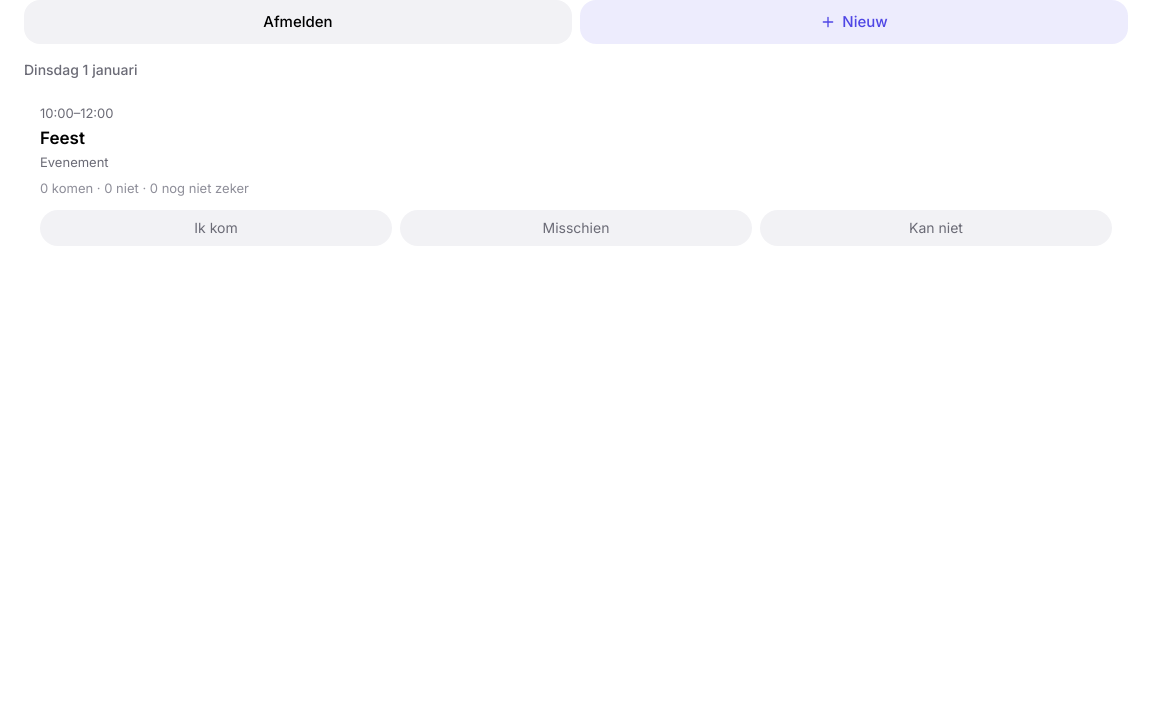
Test: verwijdert alleen na de bevestiging en sluit na serverantwoord
What coordinates should you click on to do the following:
click the text "Feest"
I would click on:
 (62, 138)
Its box is [40,126,85,151].
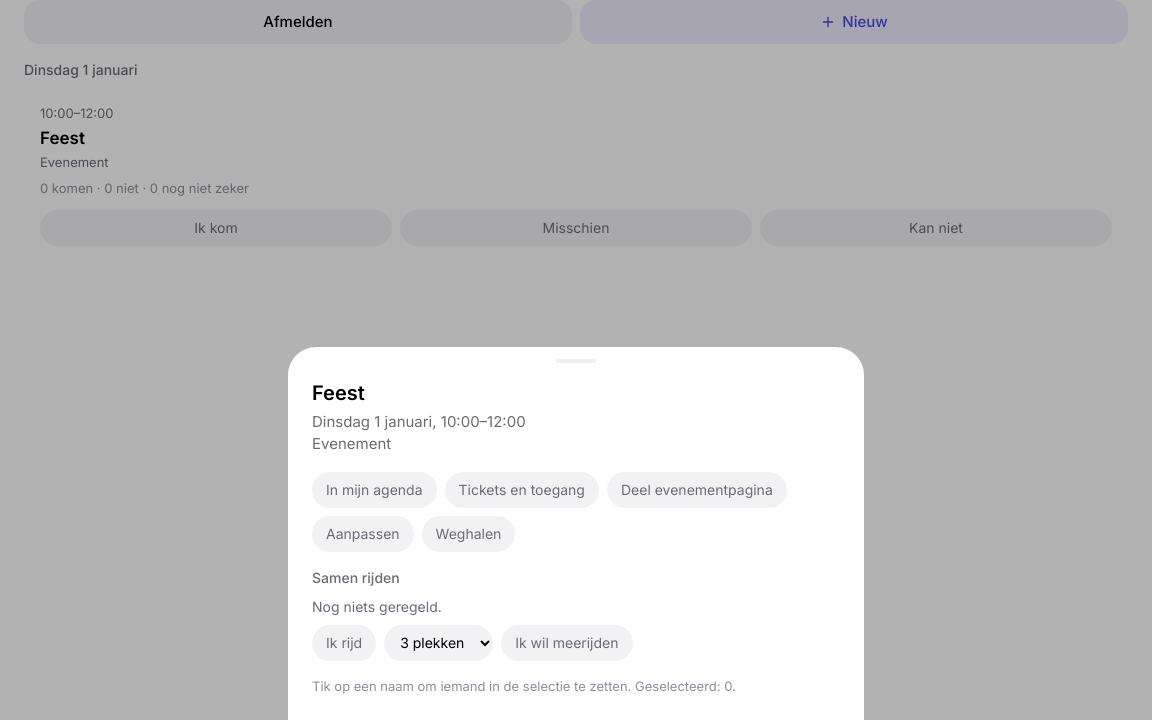
What coordinates should you click on to do the following:
click the button "Weghalen"
I would click on:
 (468, 534)
Its box is [422,516,515,552].
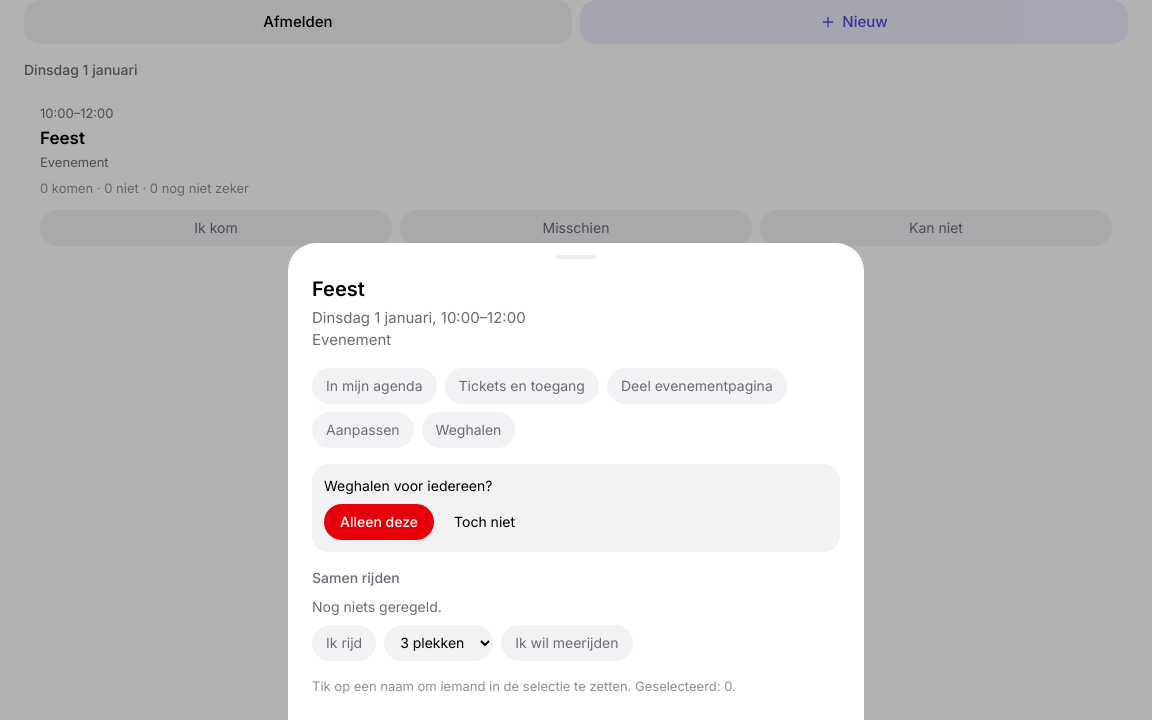
What coordinates should you click on to do the following:
click the button "Alleen deze"
I would click on:
 (379, 522)
Its box is [324,504,434,540].
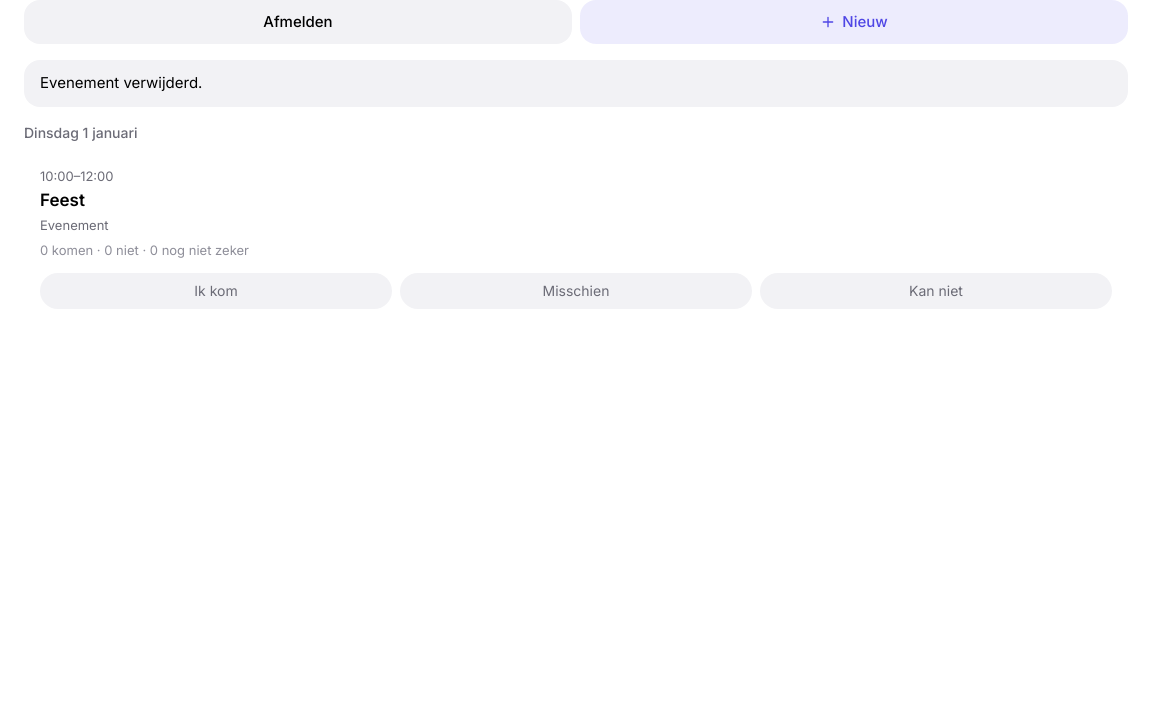
Expected: the dialog is gone
